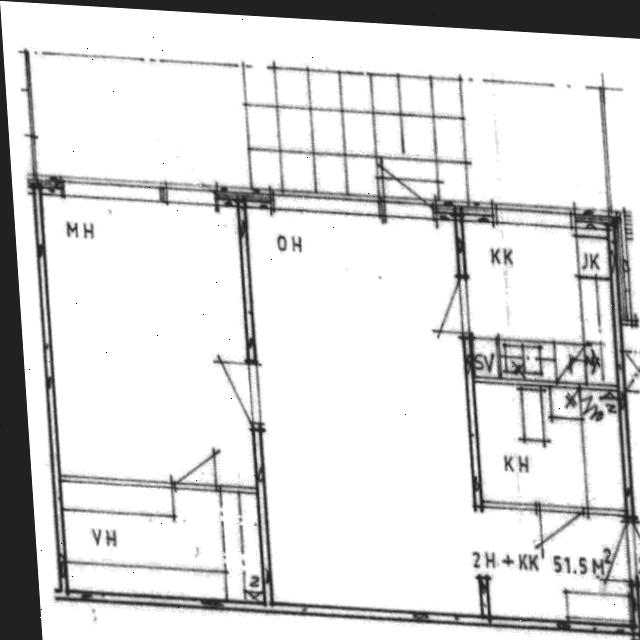room: (42, 183, 254, 498), (463, 214, 616, 392), (56, 481, 269, 602), (467, 382, 632, 508)
